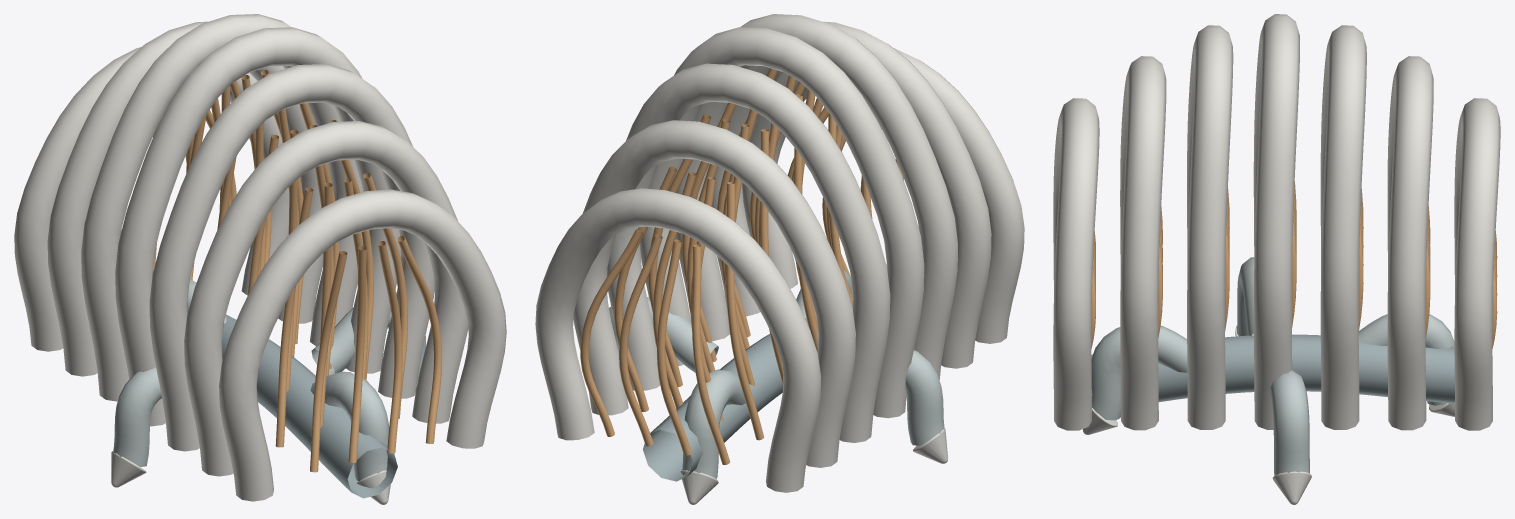
The model's file is bio_blind_harp_09_near.glb.
The picture shows the model from 3 angles, left to right: view 1: azimuth 30°, elevation 25°; view 2: azimuth 150°, elevation 25°; view 3: azimuth 270°, elevation 25°; orthographic projection. The views are drawn at different scales.
Visible parts, largest first — view 1: Open rib arch, Open rib arch.001, Open rib arch.002, Open rib arch.003, Open rib arch.004, Open rib arch.005, Open rib arch.006, Resonance filament, Low axial spine, Resonance filament.004, Crooked support.002, Crooked support.001 (+6 smaller); view 2: Open rib arch.006, Open rib arch.005, Open rib arch.004, Open rib arch.003, Open rib arch.002, Open rib arch.001, Open rib arch, Resonance filament.024, Resonance filament.020, Low axial spine, Resonance filament.016, Crooked support (+7 smaller); view 3: Open rib arch.004, Open rib arch.002, Open rib arch.003, Open rib arch.001, Open rib arch.005, Open rib arch, Open rib arch.006, Low axial spine, Crooked support.003, Crooked support.002, Crooked support, Crooked support.001 (+5 smaller).
Boxes of the visible parts, x1,y1,x2,y2 form: Open rib arch: [219, 189, 506, 501]; Open rib arch.001: [184, 121, 468, 476]; Open rib arch.002: [149, 64, 434, 451]; Open rib arch.003: [115, 27, 401, 426]; Open rib arch.004: [81, 14, 363, 401]; Open rib arch.005: [47, 21, 323, 376]; Open rib arch.006: [14, 47, 289, 351]; Resonance filament: [310, 236, 441, 472]; Low axial spine: [222, 314, 397, 498]; Resonance filament.004: [275, 172, 407, 447]; Crooked support.002: [310, 371, 389, 481]; Crooked support.001: [112, 367, 161, 467]; Open rib arch.006: [535, 188, 820, 492]; Open rib arch.005: [573, 120, 855, 467]; Open rib arch.004: [607, 63, 890, 442]; Open rib arch.003: [640, 27, 924, 418]; Open rib arch.002: [675, 14, 957, 379]; Open rib arch.001: [712, 21, 991, 368]; Open rib arch: [742, 48, 1024, 343]; Resonance filament.024: [580, 229, 729, 464]; Resonance filament.020: [614, 166, 764, 440]; Low axial spine: [643, 318, 807, 481]; Resonance filament.016: [648, 114, 783, 387]; Crooked support: [682, 369, 752, 478]; Open rib arch.004: [1320, 25, 1366, 429]; Open rib arch.002: [1187, 25, 1233, 429]; Open rib arch.003: [1253, 14, 1299, 429]; Open rib arch.001: [1120, 56, 1166, 430]; Open rib arch.005: [1387, 56, 1433, 430]; Open rib arch: [1053, 98, 1099, 430]; Open rib arch.006: [1454, 98, 1500, 430]; Low axial spine: [1091, 334, 1454, 403]; Crooked support.003: [1269, 370, 1309, 478]; Crooked support.002: [1091, 325, 1187, 420]; Crooked support: [1358, 314, 1454, 405]; Crooked support.001: [1237, 257, 1254, 336].
Bounding box in the file's own units: 2.01 × 2.31 × 2.35.
